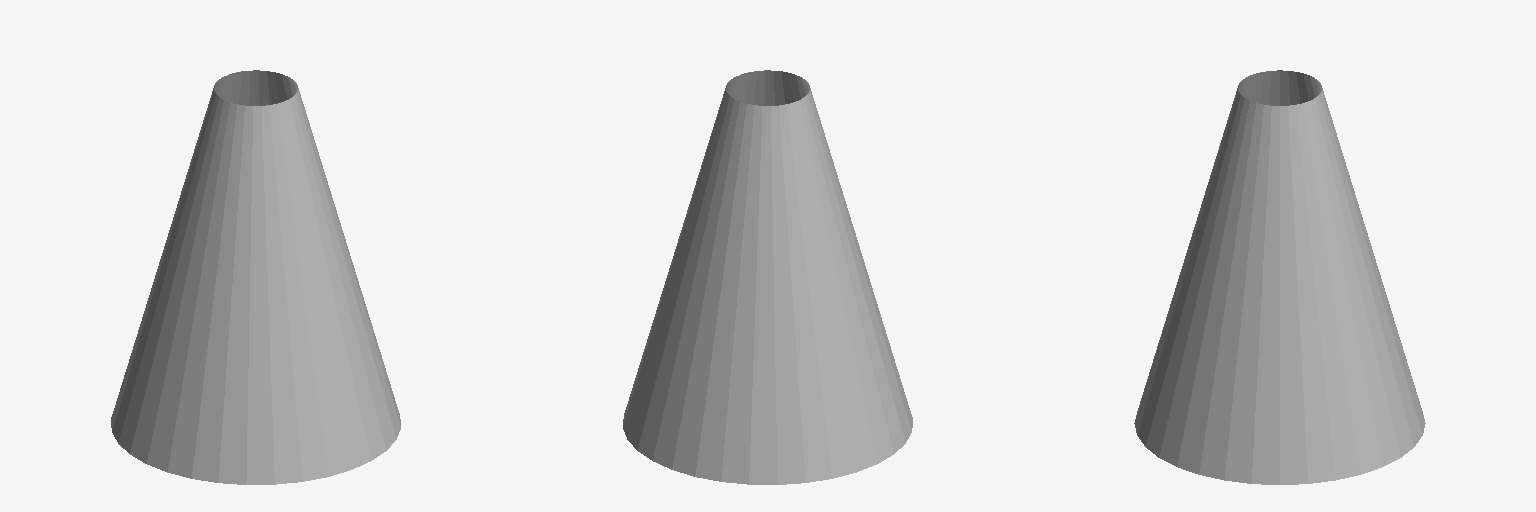
File: ufoLight.obj
The picture shows the model from 3 angles: view 1: azimuth 30°, elevation 25°; view 2: azimuth 150°, elevation 25°; view 3: azimuth 270°, elevation 25°; orthographic projection.
Parts seen in each view (by area): view 1: Cone; view 2: Cone; view 3: Cone.
Boxes of the visible parts, <box> form: Cone: <box>111,70,400,484</box>; Cone: <box>623,70,912,484</box>; Cone: <box>1134,70,1425,484</box>.
Bounding box in the file's own units: 6.22 × 7.9 × 6.22.